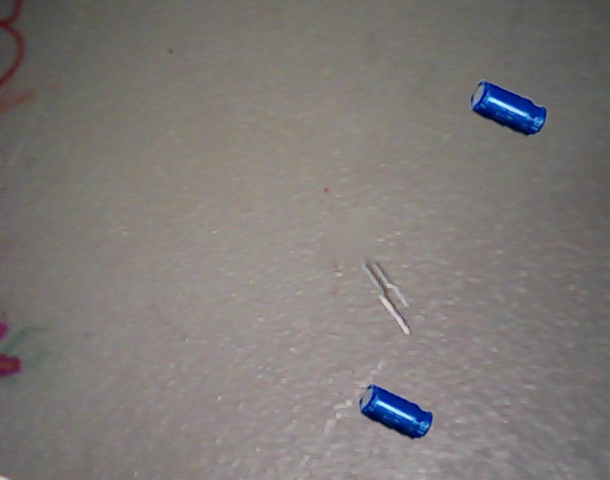capacitor: (470, 80, 547, 136), (359, 384, 433, 439)
